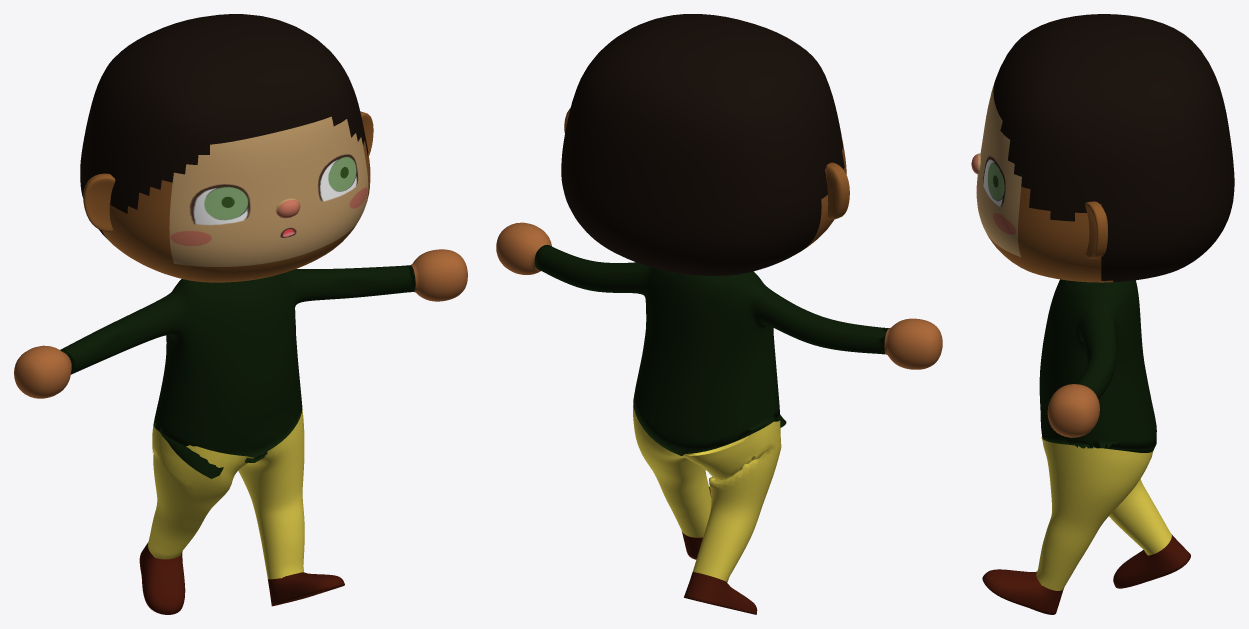
File: Hans walking (left leg).obj
3 renders of one model, left to right at view 1: azimuth 30°, elevation 25°; view 2: azimuth 150°, elevation 25°; view 3: azimuth 270°, elevation 25°, orthographic.
Parts seen in each view (by area): view 1: Cube.001, Cube.002, Cube.003, Cube.008, Cube.005, Cube.004; view 2: Cube.001, Cube.002, Cube.003, Cube.005, Cube.004, Cube.008; view 3: Cube.001, Cube.002, Cube.003, Cube.008, Cube.004.
Part boxes in pixels (x1=…): Cube.001: x1=80, y1=14, x2=373, y2=282; Cube.002: x1=60, y1=265, x2=415, y2=478; Cube.003: x1=148, y1=409, x2=304, y2=579; Cube.008: x1=139, y1=542, x2=344, y2=614; Cube.005: x1=14, y1=345, x2=71, y2=398; Cube.004: x1=411, y1=249, x2=467, y2=301; Cube.001: x1=561, y1=14, x2=849, y2=275; Cube.002: x1=534, y1=244, x2=888, y2=455; Cube.003: x1=633, y1=404, x2=781, y2=582; Cube.005: x1=884, y1=318, x2=942, y2=369; Cube.004: x1=496, y1=222, x2=551, y2=274; Cube.008: x1=682, y1=486, x2=757, y2=614; Cube.001: x1=971, y1=14, x2=1234, y2=282; Cube.002: x1=1039, y1=279, x2=1156, y2=452; Cube.003: x1=1036, y1=437, x2=1171, y2=590; Cube.008: x1=982, y1=534, x2=1190, y2=614; Cube.004: x1=1047, y1=384, x2=1099, y2=437.
Size of the model in its own units: 2.58 by 3.17 by 1.32.
